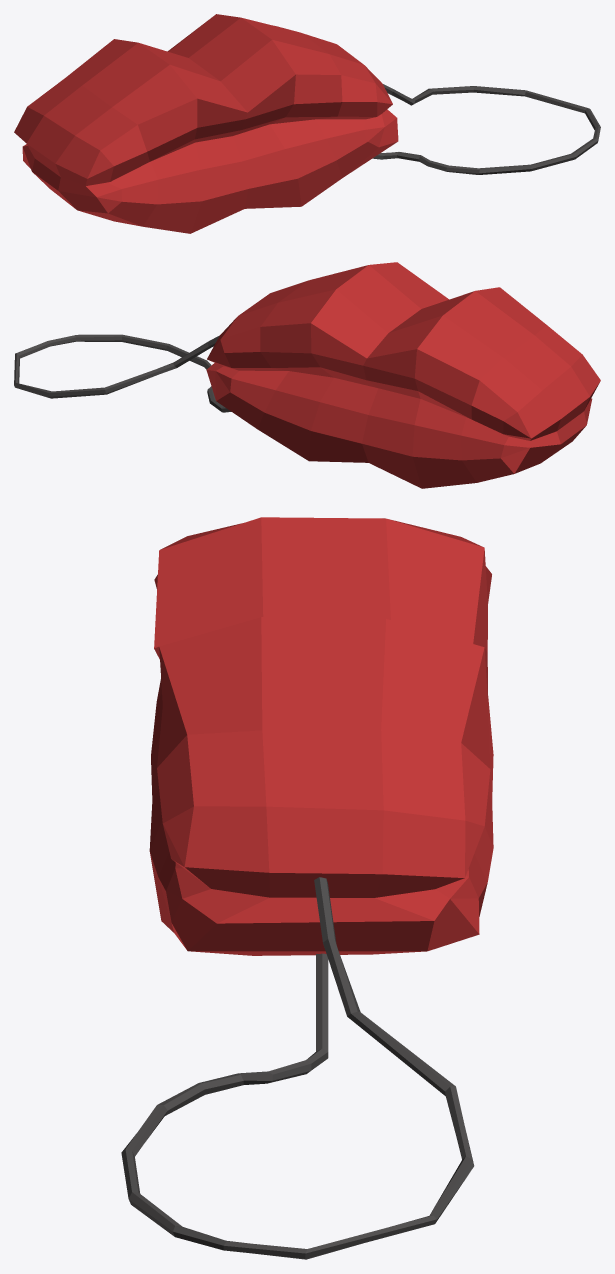
The model's file is Telephone_1.fbx.
3 renders of one model, top to bottom at view 1: azimuth 30°, elevation 25°; view 2: azimuth 150°, elevation 25°; view 3: azimuth 270°, elevation 25°, orthographic. The views are drawn at different scales.
Visible parts, largest first — view 1: Telephone_1; view 2: Telephone_1; view 3: Telephone_1.
Boxes of the visible parts, x1,y1,x2,y2 form: Telephone_1: [14, 14, 600, 233]; Telephone_1: [14, 262, 600, 488]; Telephone_1: [121, 517, 493, 1259].
Size of the model in its own units: 43.24 by 12.8 by 12.33.
